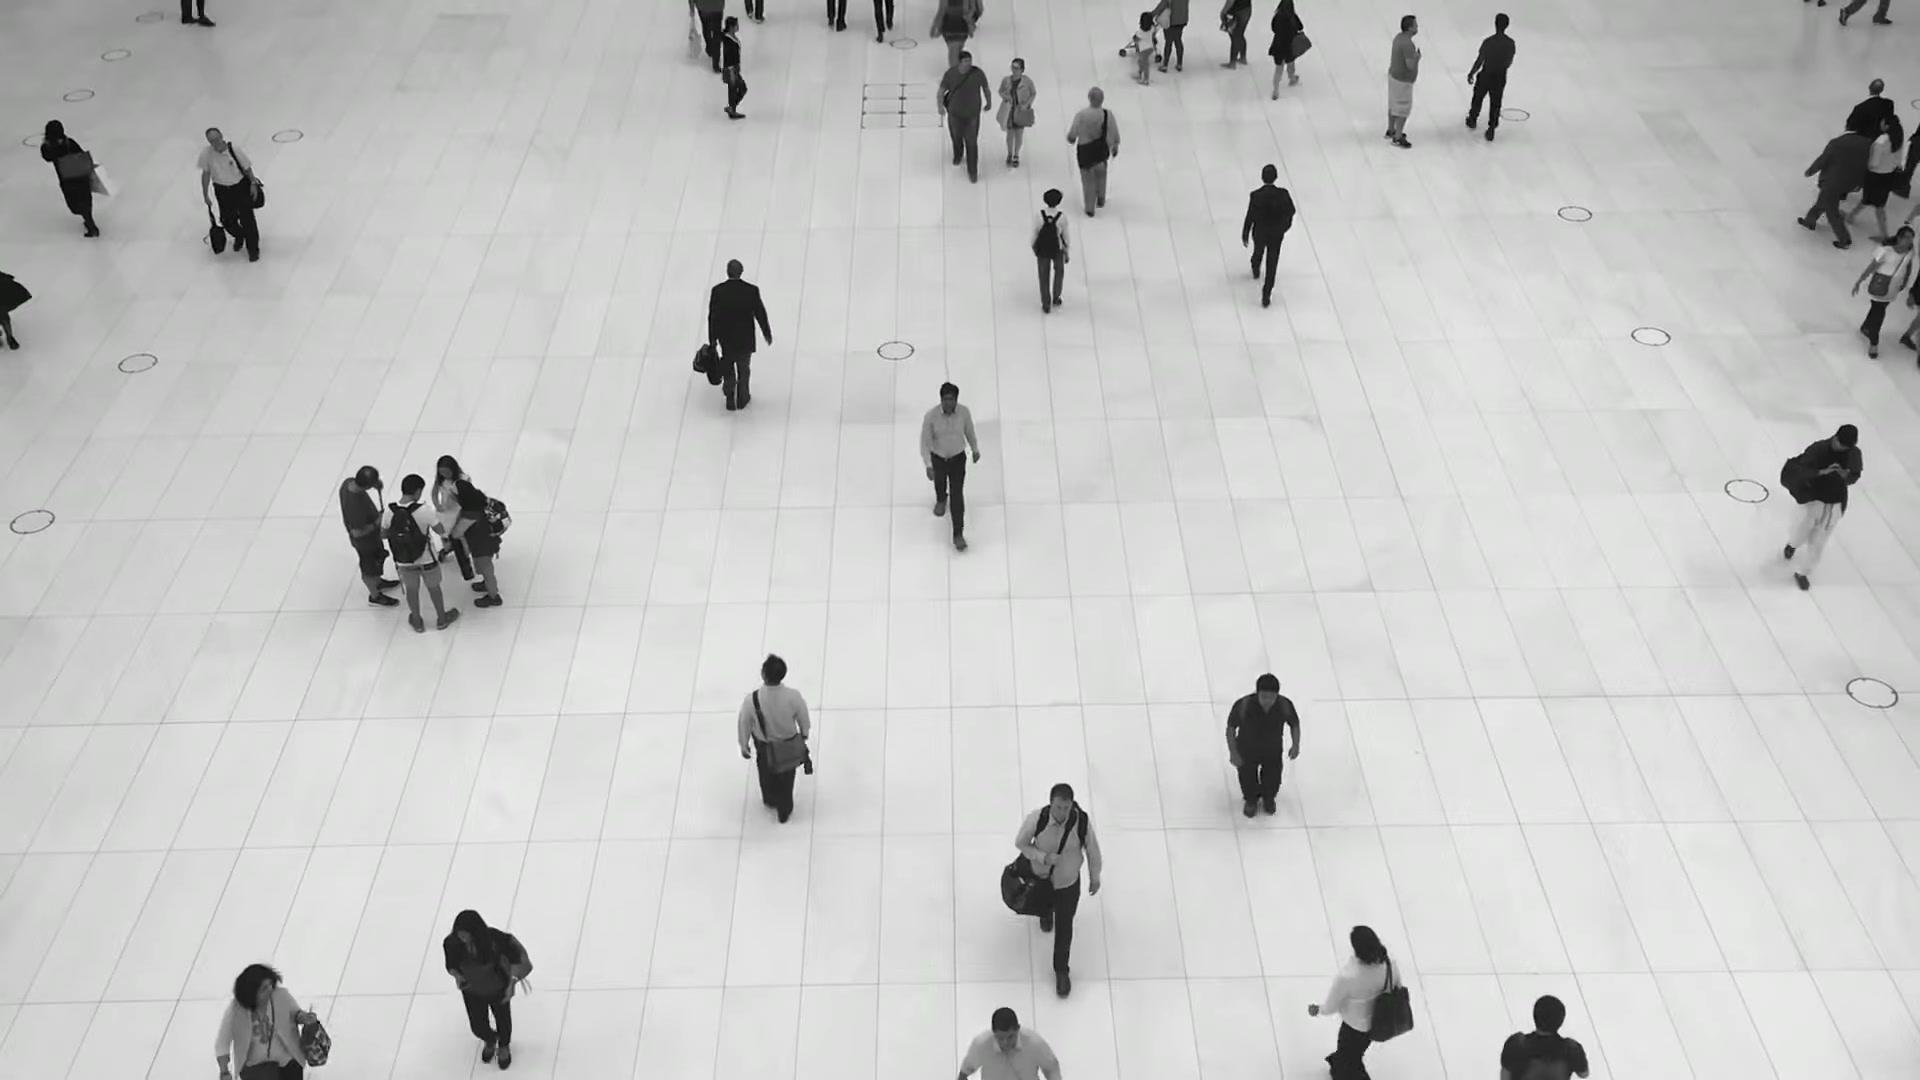person: (1014, 780, 1102, 1000), (1299, 924, 1400, 1080), (1781, 423, 1862, 593), (378, 476, 459, 636), (442, 908, 520, 1070), (737, 654, 811, 823), (215, 960, 314, 1080), (1225, 672, 1301, 818), (919, 381, 982, 550), (1796, 117, 1872, 250), (707, 259, 772, 412), (336, 465, 400, 610), (196, 126, 261, 264), (1850, 224, 1915, 360), (1839, 112, 1904, 245), (1241, 163, 1297, 307), (954, 1006, 1062, 1079), (1497, 995, 1589, 1080), (1066, 85, 1122, 218), (936, 49, 991, 183), (39, 118, 100, 238), (1464, 11, 1515, 143), (449, 482, 501, 611), (1028, 187, 1073, 314), (427, 458, 468, 580), (1384, 14, 1422, 148), (996, 58, 1036, 171), (1266, 0, 1305, 99), (720, 15, 748, 120), (1135, 11, 1154, 86)
